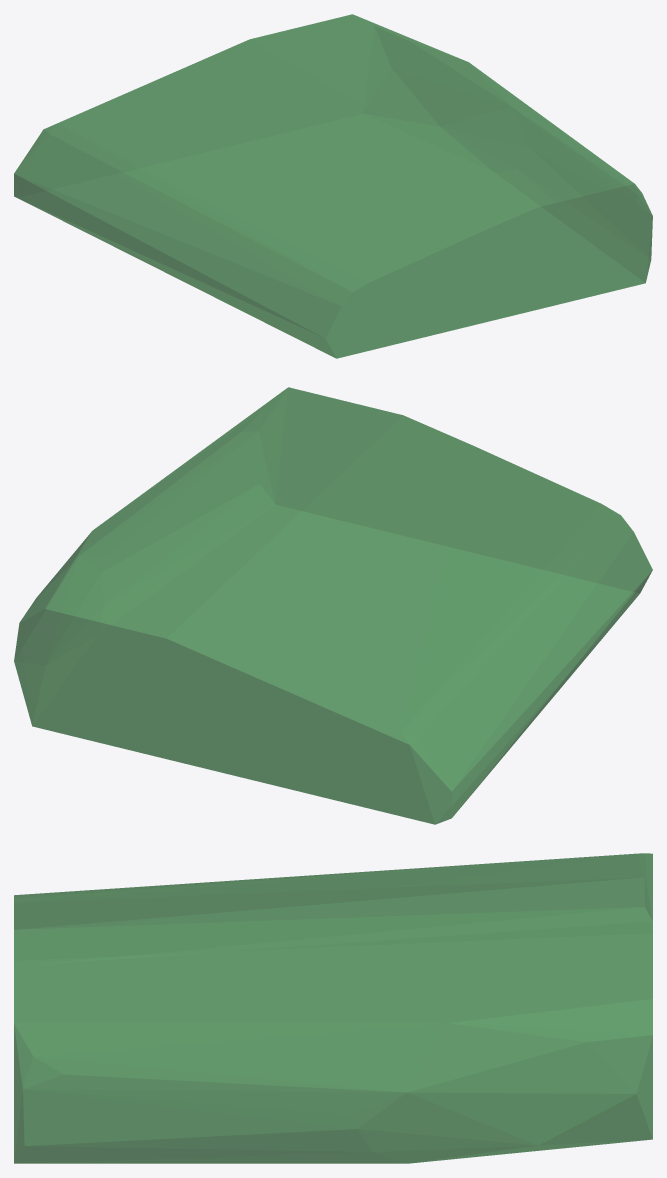
The picture shows the model from 3 angles, top to bottom: view 1: azimuth 30°, elevation 25°; view 2: azimuth 150°, elevation 25°; view 3: azimuth 270°, elevation 25°; orthographic projection. The views are drawn at different scales.
Parts seen in each view (by area): view 1: Shape_IndexedFaceSet.003_Shape_IndexedFaceSet.12876; view 2: Shape_IndexedFaceSet.003_Shape_IndexedFaceSet.12876; view 3: Shape_IndexedFaceSet.003_Shape_IndexedFaceSet.12876.
Part boxes in pixels (left/top/right/bottom): Shape_IndexedFaceSet.003_Shape_IndexedFaceSet.12876: left=14, top=14, right=652, bottom=358; Shape_IndexedFaceSet.003_Shape_IndexedFaceSet.12876: left=14, top=387, right=652, bottom=824; Shape_IndexedFaceSet.003_Shape_IndexedFaceSet.12876: left=14, top=853, right=652, bottom=1163.
Bounding box in the file's own units: 0.1875 × 0.045 × 0.195.
